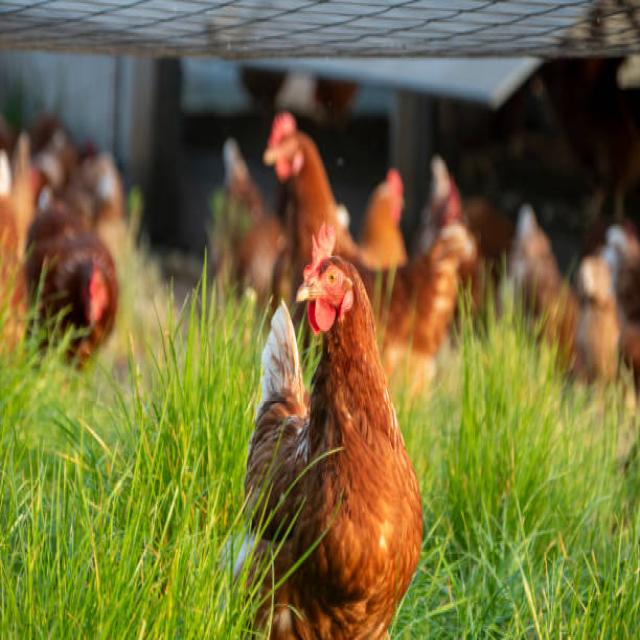Chicken: (240, 271, 473, 635), (25, 200, 130, 394), (258, 112, 362, 267)
